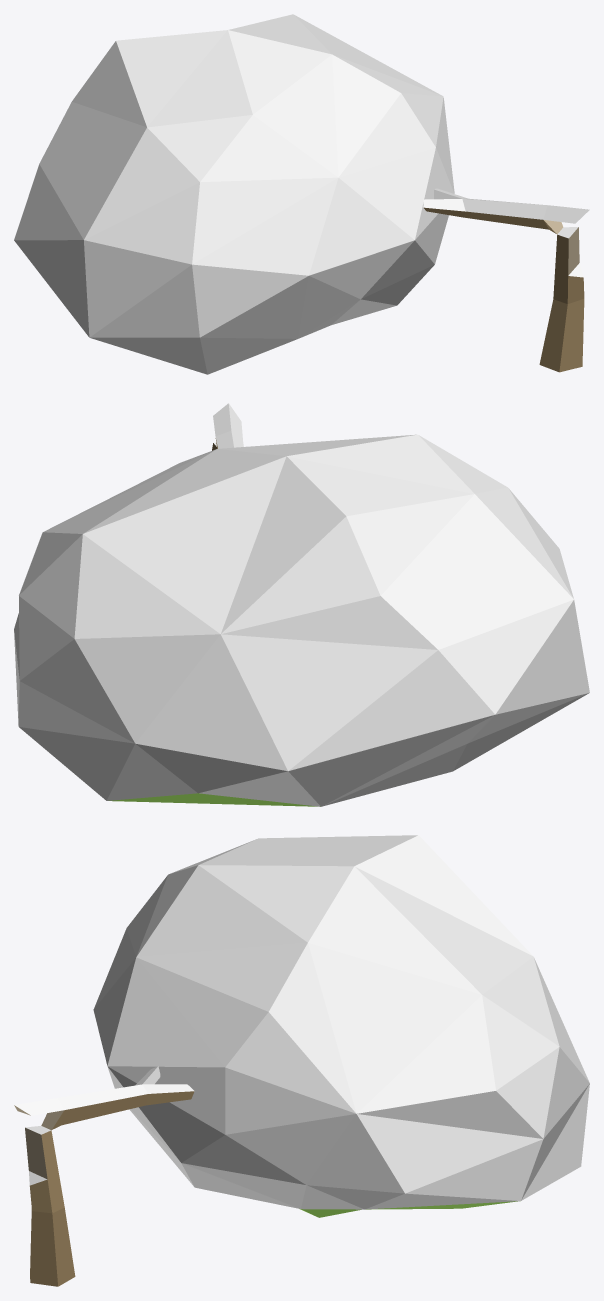
Rendered from Apple_Tree_crk_m_Snow_BT_01.fbx.
3 renders of one model, top to bottom at view 1: azimuth 30°, elevation 25°; view 2: azimuth 150°, elevation 25°; view 3: azimuth 270°, elevation 25°, orthographic. The views are drawn at different scales.
Parts seen in each view (by area): view 1: Apple_Tree_crk_m_Snow_BT_01; view 2: Apple_Tree_crk_m_Snow_BT_01; view 3: Apple_Tree_crk_m_Snow_BT_01.
Part boxes in pixels (x1,y1,x2,y2): Apple_Tree_crk_m_Snow_BT_01: (14,14,589,374); Apple_Tree_crk_m_Snow_BT_01: (14,403,589,806); Apple_Tree_crk_m_Snow_BT_01: (14,835,589,1286).
Bounding box in the file's own units: 494 × 310 × 529.
